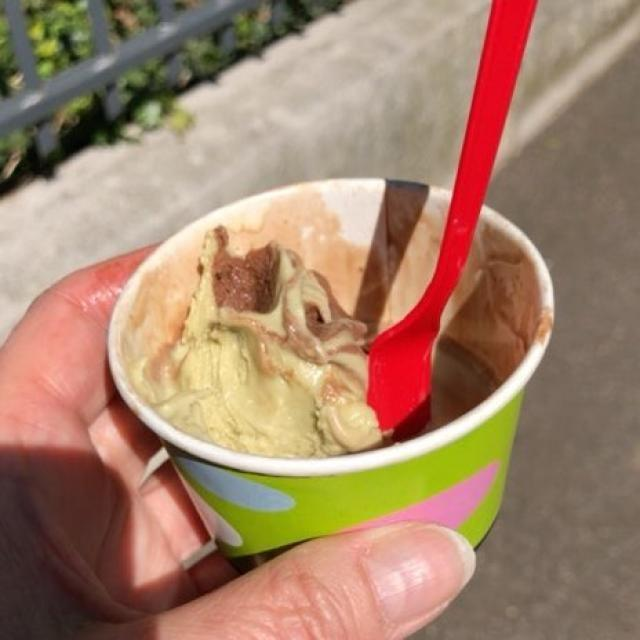ice-cream: (166, 253, 379, 464)
